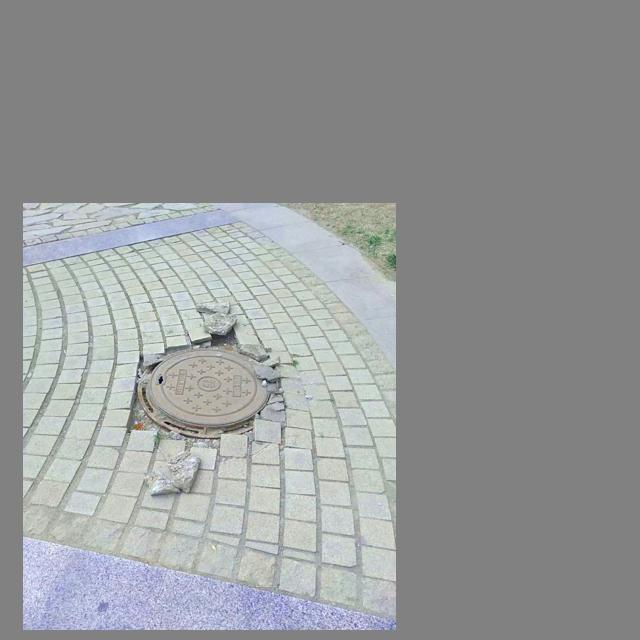circle: (112, 321, 305, 459)
